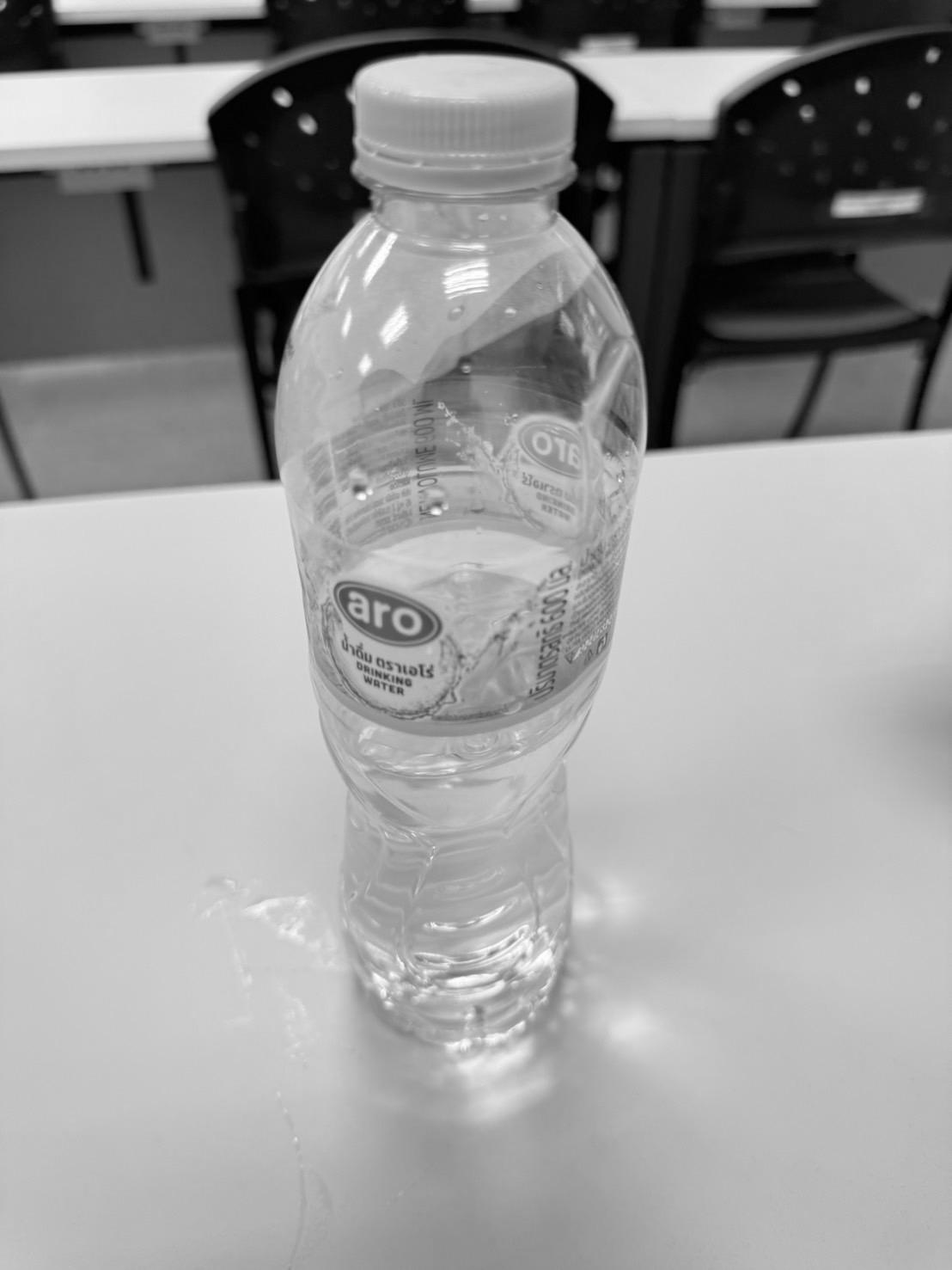bottle: (276, 51, 645, 1100)
